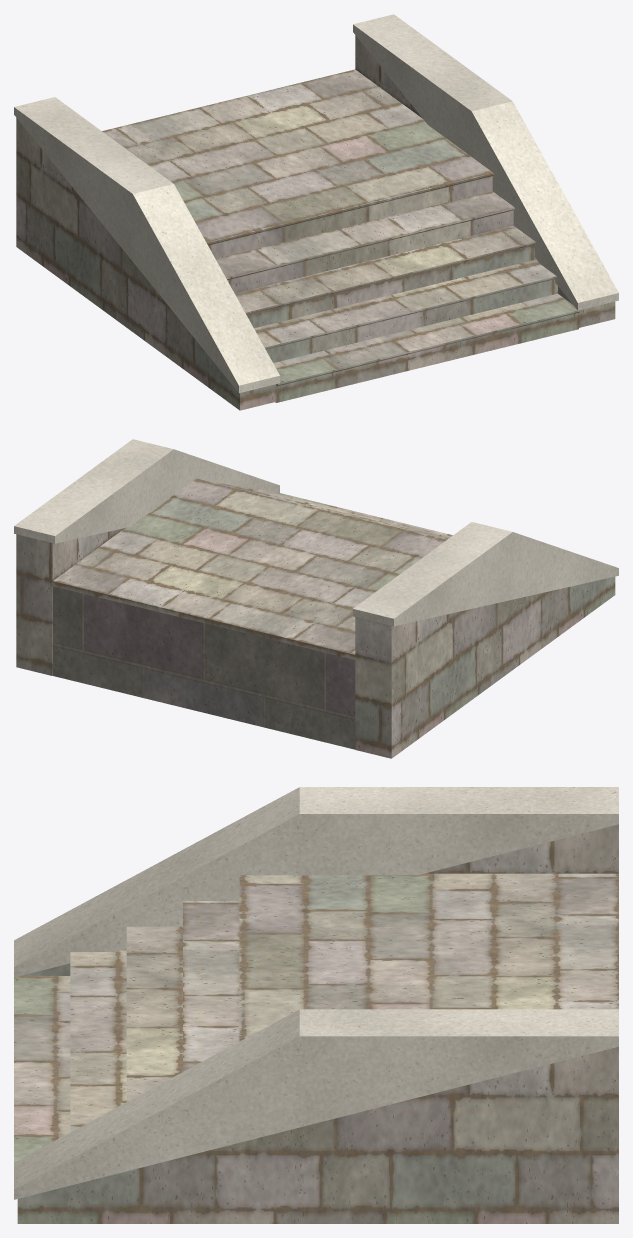
Rendered from podium.glb.
3 views of the same model, one above another, from view 1: azimuth 30°, elevation 25°; view 2: azimuth 150°, elevation 25°; view 3: azimuth 270°, elevation 25° (orthographic). The views are drawn at different scales.
Visible parts, largest first — view 1: podium_stone2, podium_trim; view 2: podium_stone2, podium_plinth, podium_trim; view 3: podium_stone2, podium_trim.
Part boxes in pixels (x1,y1,x2,y2): podium_stone2: (16,35,615,410); podium_trim: (14,14,618,393); podium_stone2: (16,478,615,758); podium_plinth: (53,586,355,749); podium_trim: (14,439,618,626); podium_stone2: (14,824,618,1223); podium_trim: (14,787,618,1199).
Bounding box in the file's own units: 3.14 × 1.12 × 3.22.
3 materials, 3 textured.
